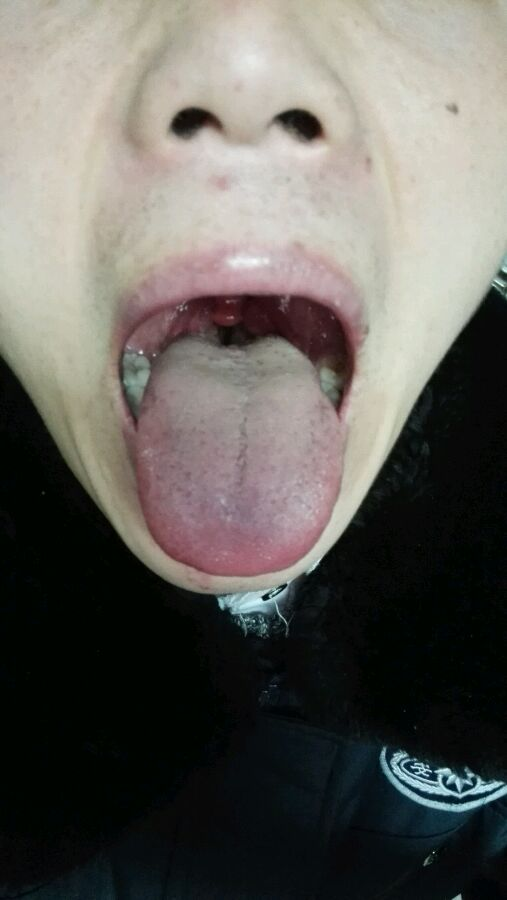hongshe: (138, 334, 344, 575)
huangtaishe: (138, 334, 344, 575)
shenquao: (192, 333, 276, 358)
